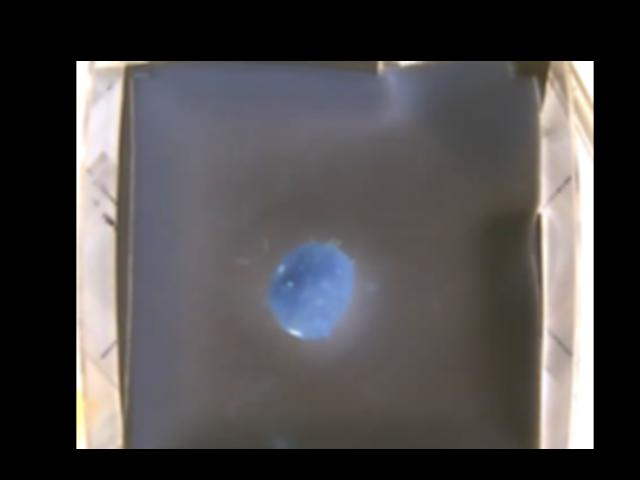Potato: (269, 236, 354, 336)
